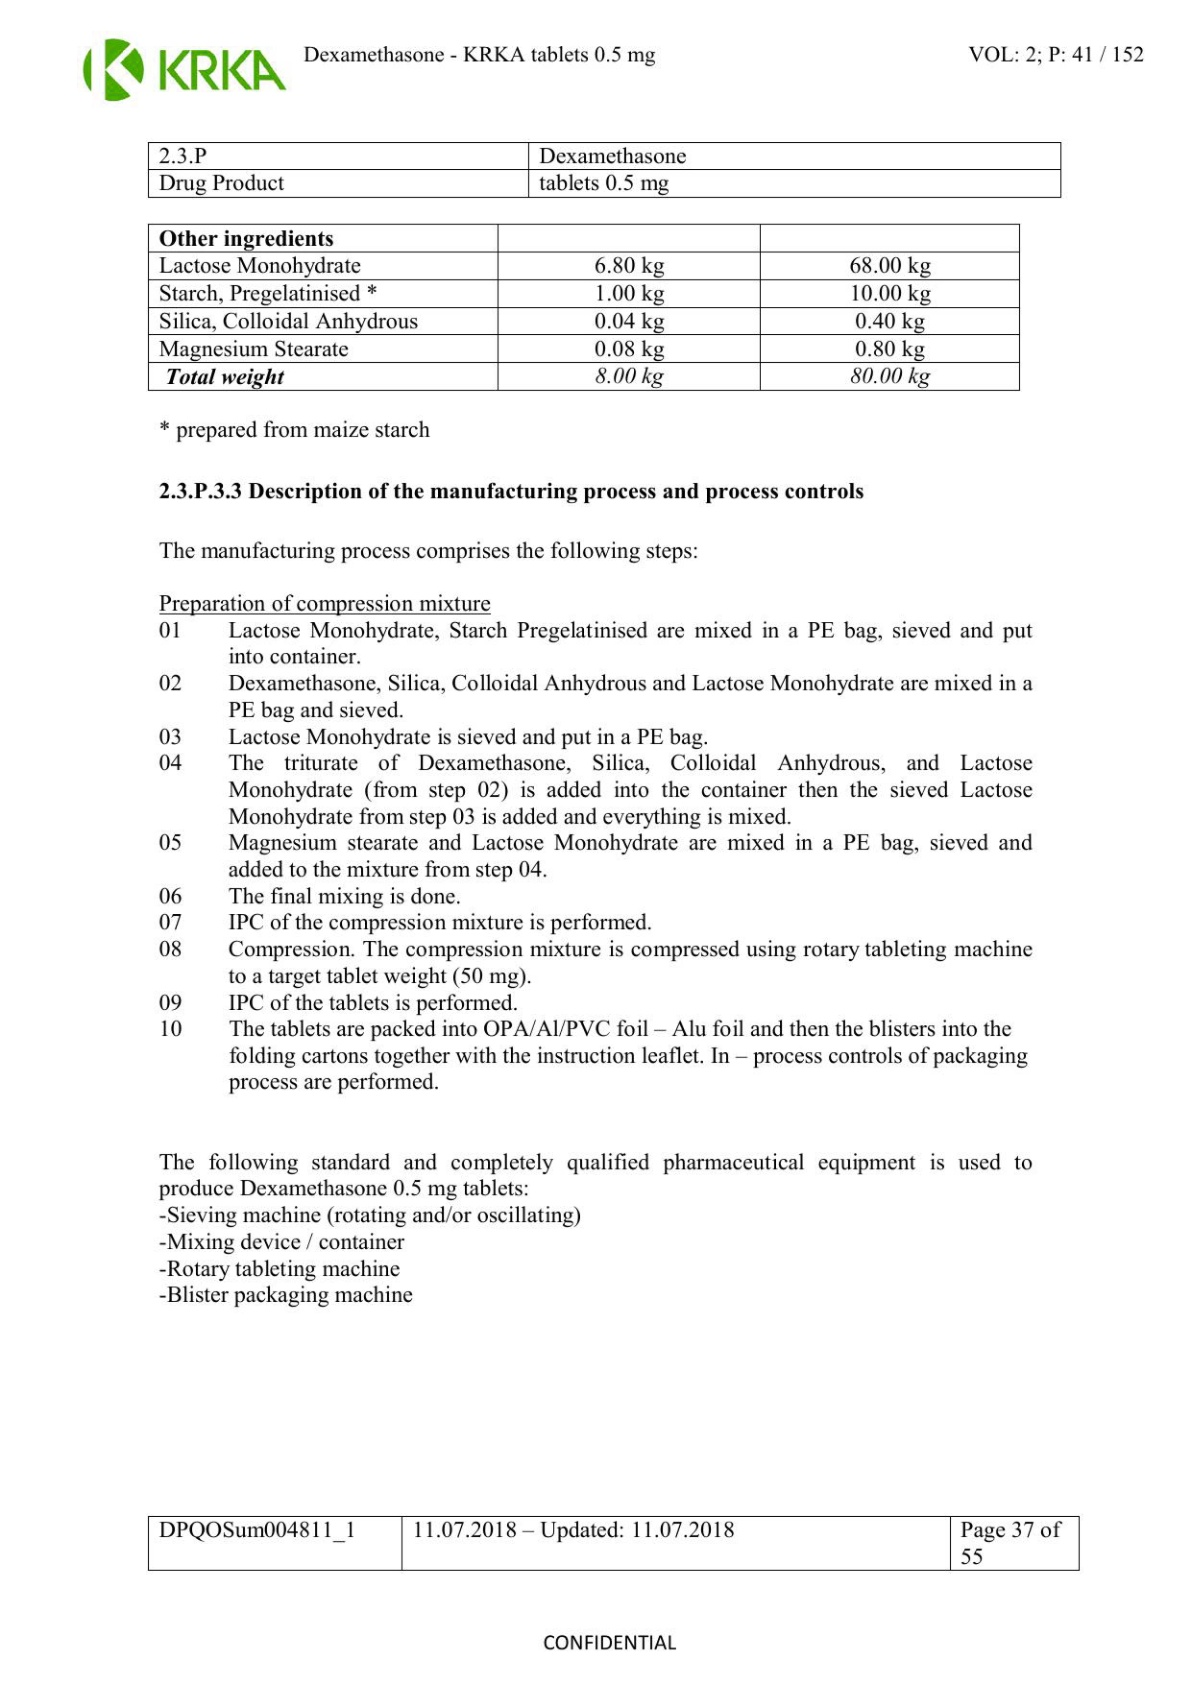full_lined: (147, 222, 1020, 392), (146, 1514, 1080, 1572), (147, 141, 1062, 199)
